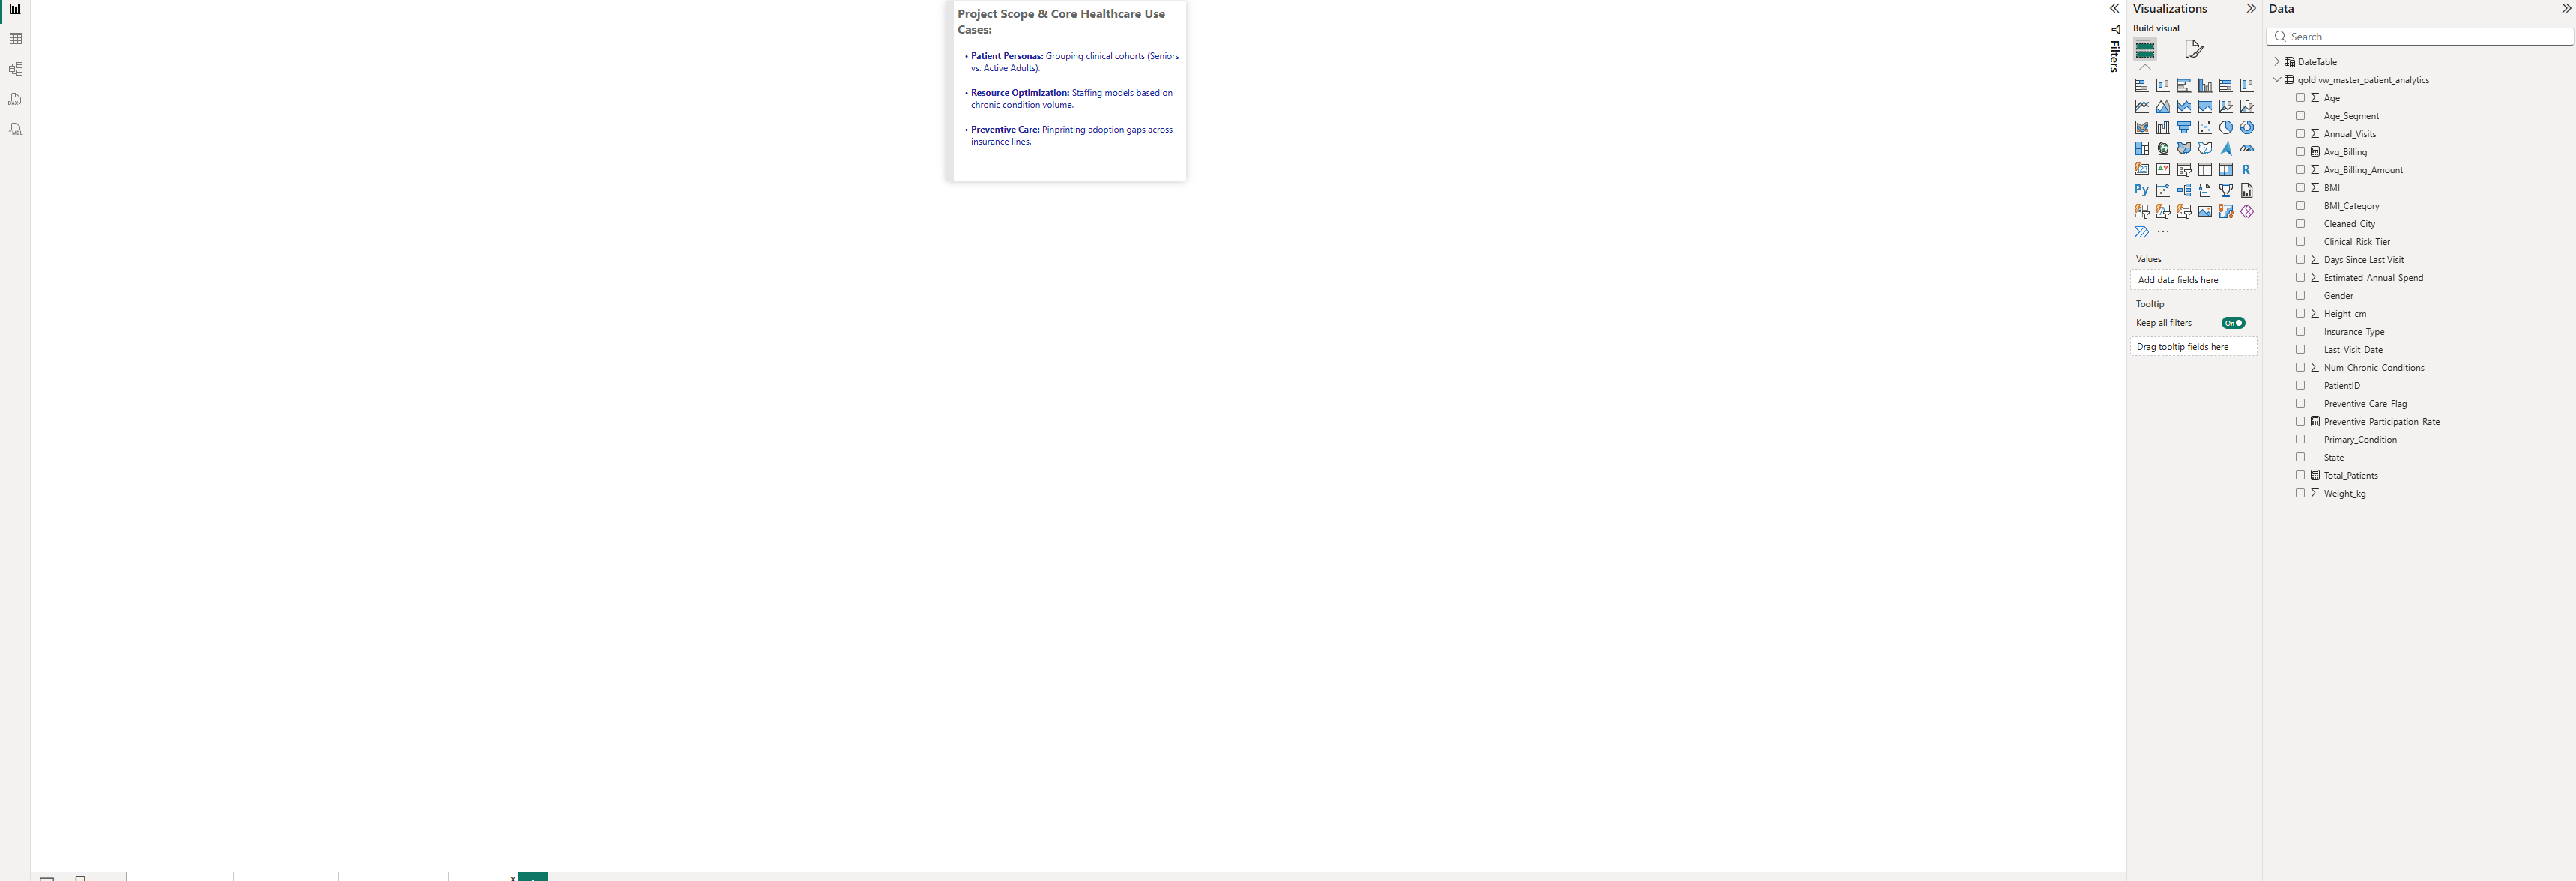

What the dashboard file says about the page in this screenshot:
{"tool":"powerbi","page":{"name":"Info page","canvas":[320,240],"ordinal":3},"visuals":[{"type":"textbox","box":[10,0,310,240],"z":0}]}

Visuals, with their boxes on the page's 320x240 design canvas (x1, y1, x2, y2). These are canvas units, not pixel positions in the 2576x881 screenshot, which may show the page scaled, cropped or inside an application window:
textbox: crop(10, 0, 320, 240)
